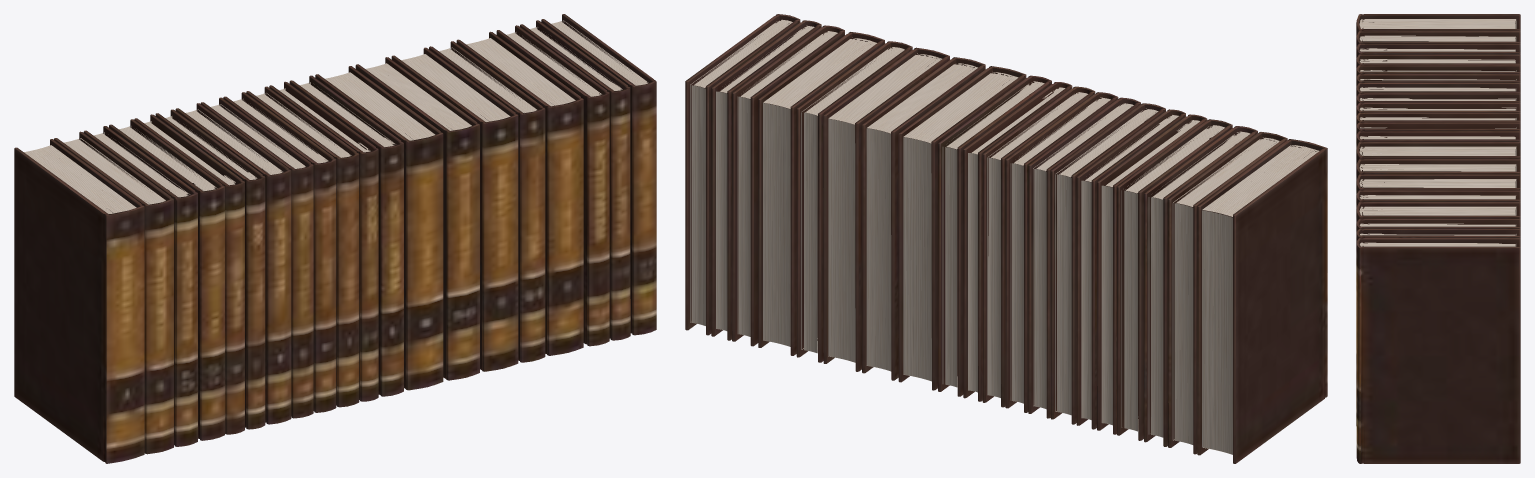
Rendered from book_encyclopedia_set_01.glb.
3 renders of one model, left to right at view 1: azimuth 30°, elevation 25°; view 2: azimuth 150°, elevation 25°; view 3: azimuth 270°, elevation 25°, orthographic. The views are drawn at different scales.
Visible parts, largest first — view 1: book_encyclopedia_set_01_book01, book_encyclopedia_set_01_book13, book_encyclopedia_set_01_book15, book_encyclopedia_set_01_book17, book_encyclopedia_set_01_book14, book_encyclopedia_set_01_book02, book_encyclopedia_set_01_book16, book_encyclopedia_set_01_book04, book_encyclopedia_set_01_book20, book_encyclopedia_set_01_book18, book_encyclopedia_set_01_book07, book_encyclopedia_set_01_book12 (+8 smaller); view 2: book_encyclopedia_set_01_book01, book_encyclopedia_set_01_book13, book_encyclopedia_set_01_book15, book_encyclopedia_set_01_book17, book_encyclopedia_set_01_book14, book_encyclopedia_set_01_book02, book_encyclopedia_set_01_book16, book_encyclopedia_set_01_book04, book_encyclopedia_set_01_book18, book_encyclopedia_set_01_book20, book_encyclopedia_set_01_book07, book_encyclopedia_set_01_book12 (+8 smaller); view 3: book_encyclopedia_set_01_book20, book_encyclopedia_set_01_book17, book_encyclopedia_set_01_book01, book_encyclopedia_set_01_book13, book_encyclopedia_set_01_book15, book_encyclopedia_set_01_book14, book_encyclopedia_set_01_book02, book_encyclopedia_set_01_book16, book_encyclopedia_set_01_book03, book_encyclopedia_set_01_book12, book_encyclopedia_set_01_book04, book_encyclopedia_set_01_book07 (+8 smaller).
Boxes of the visible parts, left/top/right/bottom form: book_encyclopedia_set_01_book01: left=14, top=139, right=144, bottom=463; book_encyclopedia_set_01_book13: left=315, top=66, right=443, bottom=390; book_encyclopedia_set_01_book15: left=391, top=47, right=518, bottom=371; book_encyclopedia_set_01_book17: left=456, top=31, right=583, bottom=355; book_encyclopedia_set_01_book14: left=355, top=57, right=479, bottom=380; book_encyclopedia_set_01_book02: left=54, top=131, right=173, bottom=454; book_encyclopedia_set_01_book16: left=429, top=41, right=545, bottom=362; book_encyclopedia_set_01_book04: left=109, top=119, right=224, bottom=440; book_encyclopedia_set_01_book20: left=541, top=14, right=656, bottom=335; book_encyclopedia_set_01_book18: left=496, top=25, right=609, bottom=346; book_encyclopedia_set_01_book07: left=175, top=103, right=291, bottom=424; book_encyclopedia_set_01_book12: left=289, top=75, right=403, bottom=396; book_encyclopedia_set_01_book01: left=1197, top=139, right=1327, bottom=463; book_encyclopedia_set_01_book13: left=898, top=66, right=1026, bottom=390; book_encyclopedia_set_01_book15: left=823, top=47, right=949, bottom=371; book_encyclopedia_set_01_book17: left=758, top=32, right=884, bottom=355; book_encyclopedia_set_01_book14: left=861, top=57, right=985, bottom=380; book_encyclopedia_set_01_book02: left=1168, top=132, right=1287, bottom=454; book_encyclopedia_set_01_book16: left=796, top=41, right=912, bottom=362; book_encyclopedia_set_01_book04: left=1117, top=119, right=1232, bottom=440; book_encyclopedia_set_01_book18: left=732, top=25, right=844, bottom=346; book_encyclopedia_set_01_book20: left=685, top=14, right=800, bottom=335; book_encyclopedia_set_01_book07: left=1050, top=103, right=1165, bottom=424; book_encyclopedia_set_01_book12: left=938, top=75, right=1051, bottom=396; book_encyclopedia_set_01_book20: left=1356, top=238, right=1520, bottom=463; book_encyclopedia_set_01_book17: left=1356, top=202, right=1520, bottom=425; book_encyclopedia_set_01_book01: left=1356, top=14, right=1520, bottom=35; book_encyclopedia_set_01_book13: left=1356, top=142, right=1520, bottom=189; book_encyclopedia_set_01_book15: left=1356, top=174, right=1520, bottom=194; book_encyclopedia_set_01_book14: left=1356, top=159, right=1520, bottom=181; book_encyclopedia_set_01_book02: left=1356, top=30, right=1520, bottom=47; book_encyclopedia_set_01_book16: left=1356, top=190, right=1520, bottom=208; book_encyclopedia_set_01_book03: left=1356, top=43, right=1520, bottom=58; book_encyclopedia_set_01_book12: left=1356, top=131, right=1520, bottom=190; book_encyclopedia_set_01_book04: left=1356, top=54, right=1520, bottom=77; book_encyclopedia_set_01_book07: left=1356, top=82, right=1520, bottom=97.
Size of the model in its own units: 0.5513 by 0.2374 by 0.1636.
Materials: 2 (2 with a texture image).
